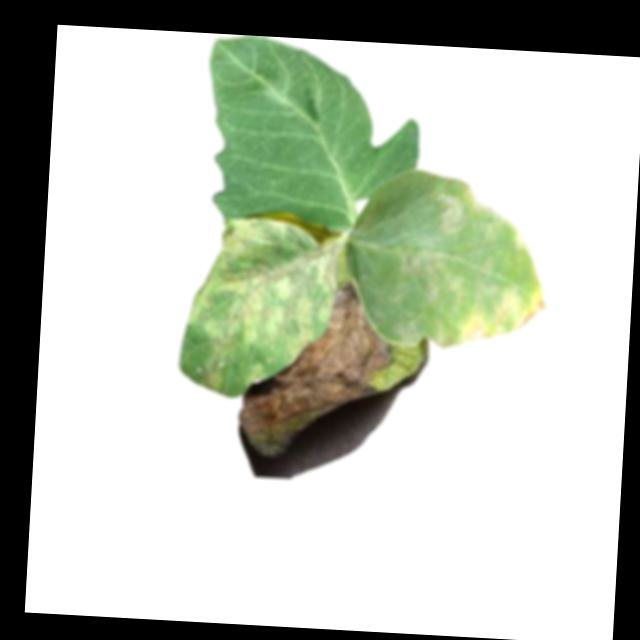Late_blight: (177, 213, 339, 404), (237, 272, 397, 463), (456, 278, 545, 349), (434, 181, 503, 239), (396, 246, 442, 277)
